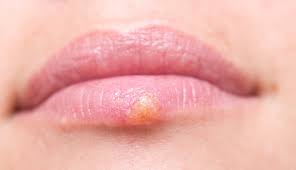herpes: (100, 87, 168, 135)
